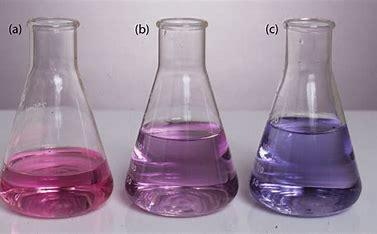Titrarion: (248, 1, 361, 216), (124, 6, 236, 218), (5, 14, 113, 221)
